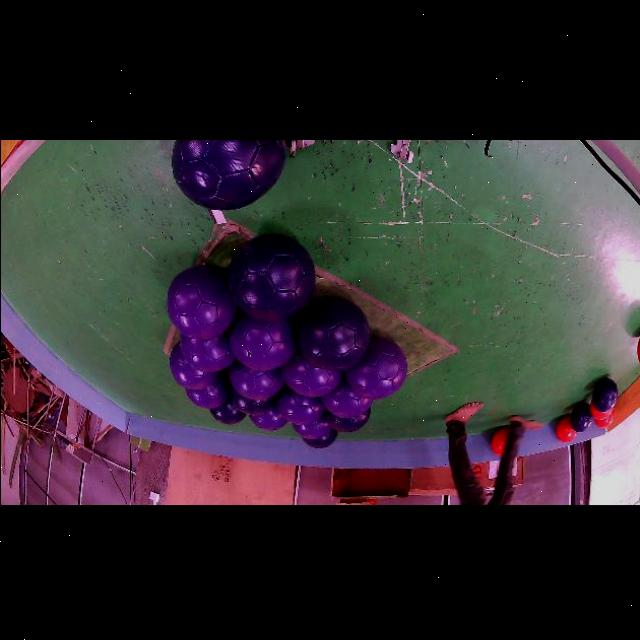B: (171, 139, 285, 209), (228, 235, 315, 321), (295, 297, 369, 371), (227, 383, 274, 415), (326, 407, 367, 433), (209, 397, 244, 425), (591, 378, 618, 412), (569, 402, 592, 433), (302, 432, 336, 448)
P: (166, 265, 235, 340), (228, 312, 295, 371), (343, 338, 404, 401), (279, 350, 341, 397), (168, 343, 218, 390), (178, 331, 234, 372), (228, 360, 282, 400), (319, 378, 369, 416), (275, 385, 322, 425), (183, 371, 227, 409), (248, 404, 286, 431), (291, 414, 331, 439)
R: (555, 416, 577, 443), (491, 428, 508, 456), (590, 402, 611, 420), (594, 410, 614, 428), (637, 334, 640, 363)
